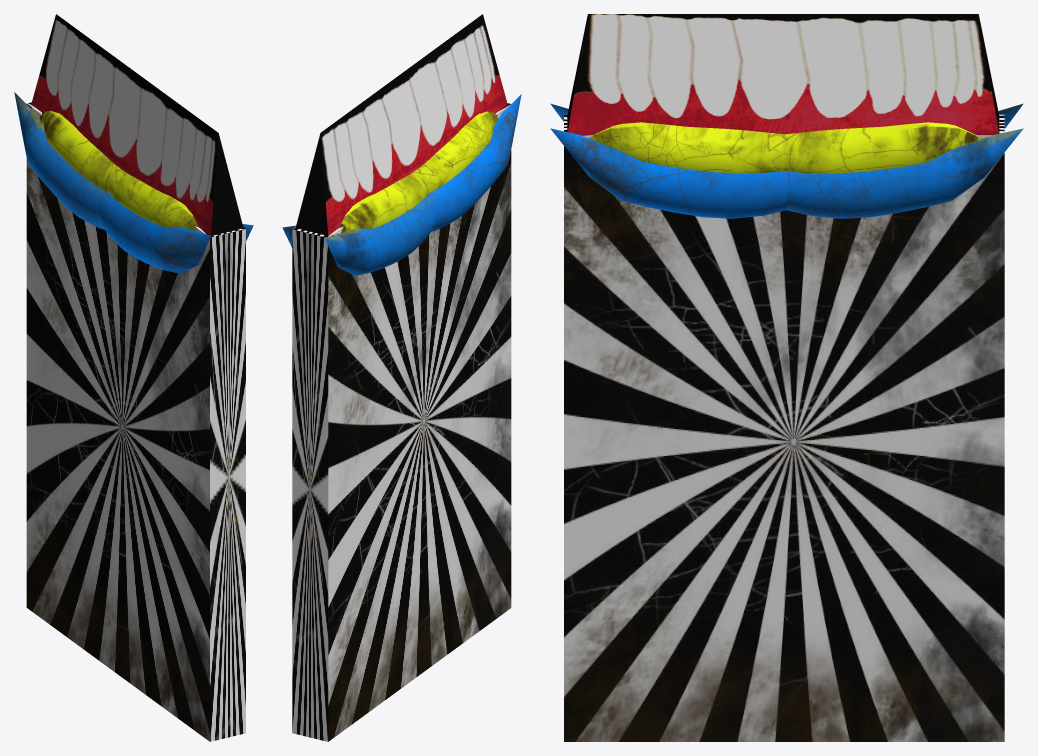
The model's file is Door.obj.
The picture shows the model from 3 angles, left to right: view 1: azimuth 30°, elevation 25°; view 2: azimuth 150°, elevation 25°; view 3: azimuth 270°, elevation 25°; orthographic projection. The views are drawn at different scales.
Visible parts, largest first — view 1: Cube, Cube.001, Cube.003, Cube.005; view 2: Cube, Cube.001, Cube.003, Cube.005; view 3: Cube, Cube.001, Cube.006, Cube.002.
Part boxes in pixels (x1,y1,x2,y2): Cube: (26,102,245,741); Cube.001: (31,14,243,235); Cube.003: (14,92,210,273); Cube.005: (39,110,198,230); Cube: (292,103,511,741); Cube.001: (295,14,507,235); Cube.003: (325,94,521,275); Cube.005: (339,111,498,232); Cube: (564,114,1004,741); Cube.001: (567,14,999,135); Cube.006: (550,128,1023,218); Cube.002: (589,122,981,173).
Size of the model in its own units: 0.8444 by 6.04 by 3.61.
